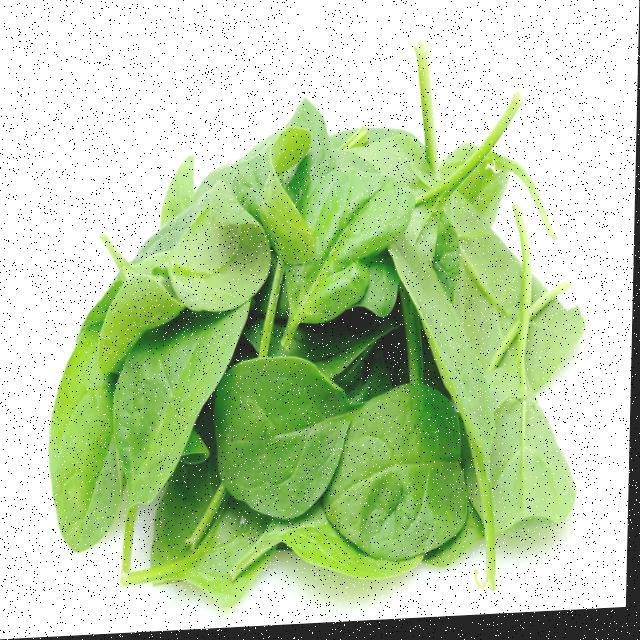Spinach: (48, 70, 601, 622)
